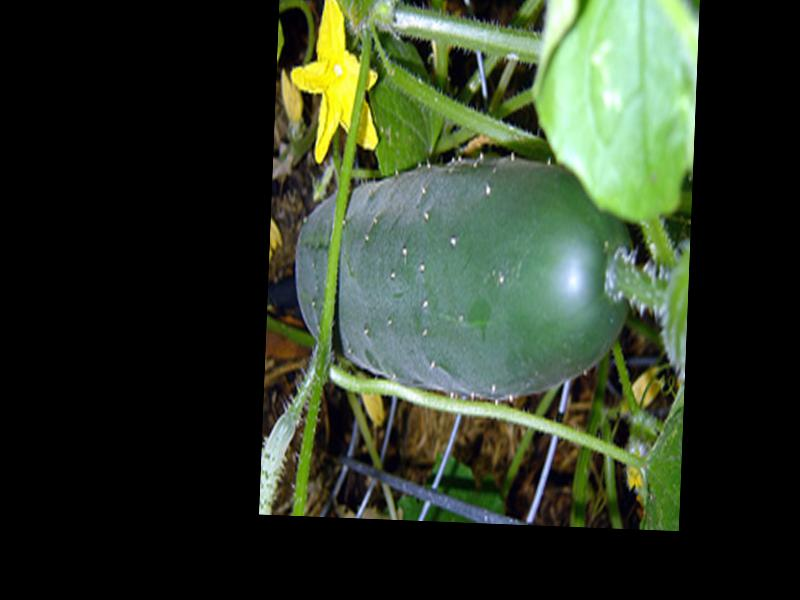Cucumber: (293, 149, 641, 403)
